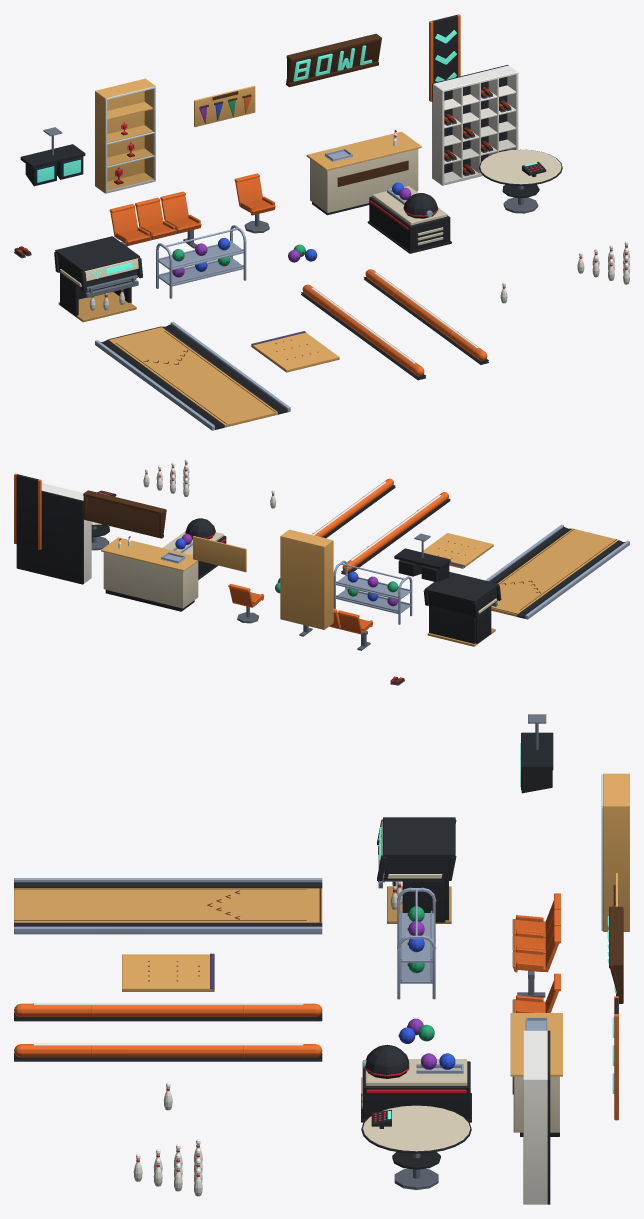
File: pack.glb
3 views of the same model, one above another, from view 1: azimuth 30°, elevation 25°; view 2: azimuth 150°, elevation 25°; view 3: azimuth 270°, elevation 25° (orthographic). The views are drawn at different scales.
Visible parts, largest first — view 1: lane_section, cubby_wall, shoe_counter, trophy_case, pinsetter, lane_bumpers, ball_return, score_console, lane_bench_row, ball_rack, bowl_sign, lane_approach (+5 smaller); view 2: lane_section, shoe_counter, cubby_wall, trophy_case, pinsetter, lane_bumpers, bowl_sign, ball_rack, arrow_sign, monitor_rig, lane_approach, pennant_board (+5 smaller); view 3: lane_section, lane_bumpers, pinsetter, ball_return, score_console, cubby_wall, trophy_case, lane_approach, shoe_counter, ball_rack, lane_bench_row, monitor_rig (+4 smaller).
Boxes of the visible parts, x1,y1,x2,y2 form: lane_section: [95, 321, 290, 430]; cubby_wall: [432, 65, 518, 185]; shoe_counter: [306, 130, 421, 215]; trophy_case: [95, 78, 155, 193]; pinsetter: [54, 236, 142, 322]; lane_bumpers: [301, 269, 488, 380]; ball_return: [367, 182, 451, 253]; score_console: [479, 149, 562, 213]; lane_bench_row: [109, 191, 201, 248]; ball_rack: [156, 225, 246, 298]; bowl_sign: [286, 33, 381, 87]; lane_approach: [251, 331, 339, 372]; lane_section: [485, 524, 629, 619]; shoe_counter: [101, 536, 198, 611]; cubby_wall: [16, 483, 91, 584]; trophy_case: [280, 529, 333, 629]; pinsetter: [423, 572, 501, 646]; lane_bumpers: [312, 478, 450, 574]; bowl_sign: [83, 490, 166, 538]; ball_rack: [333, 560, 412, 624]; arrow_sign: [14, 473, 41, 549]; monitor_rig: [394, 533, 450, 582]; lane_approach: [421, 533, 493, 568]; pennant_board: [193, 536, 246, 572]; lane_section: [14, 878, 322, 934]; lane_bumpers: [14, 1003, 322, 1061]; pinsetter: [377, 817, 456, 923]; ball_return: [361, 1044, 471, 1122]; score_console: [361, 1105, 471, 1189]; cubby_wall: [523, 1030, 550, 1204]; trophy_case: [601, 773, 629, 931]; lane_approach: [122, 953, 214, 991]; shoe_counter: [510, 1013, 562, 1136]; ball_rack: [397, 887, 436, 999]; lane_bench_row: [512, 893, 560, 997]; monitor_rig: [520, 714, 553, 793].
Bounding box in the file's own units: 9.86 × 2.74 × 7.99.
Materials: 2 (2 with a texture image).
